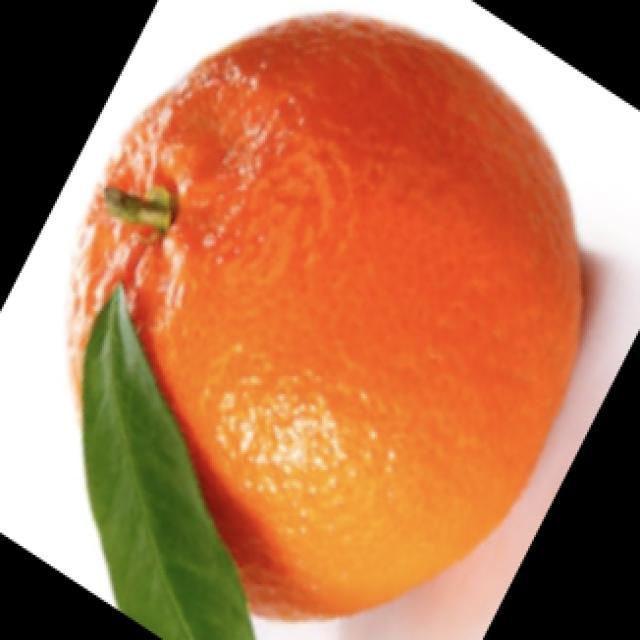Orange: (66, 10, 585, 623)
